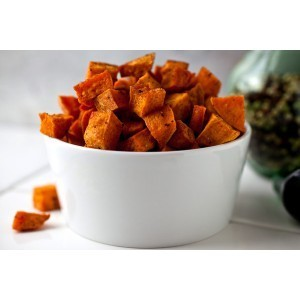sweet potato_brain food: (40, 54, 252, 154), (11, 183, 55, 239)
